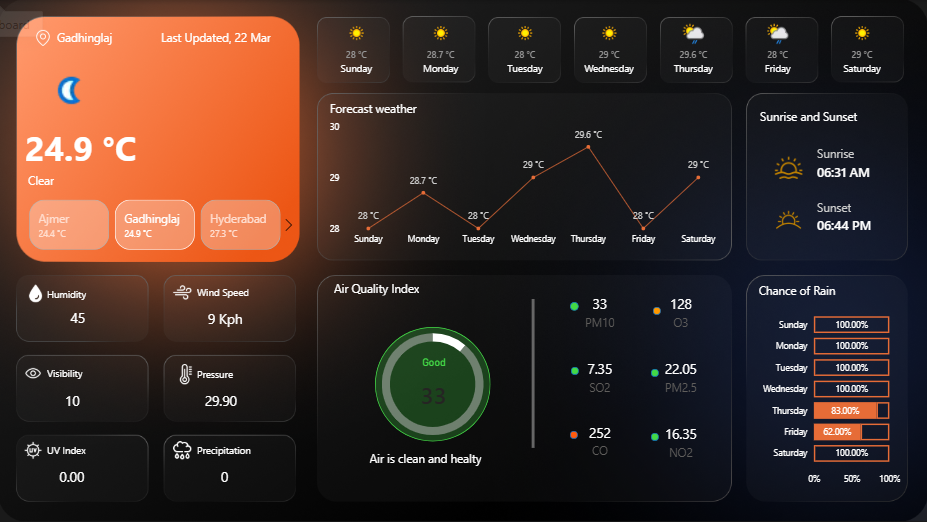

Layout of this report page (visuals, bound fields, positions):
{"tool":"powerbi","page":{"name":"Live Weather Report","canvas":[1280,720],"ordinal":0},"visuals":[{"type":"advancedSlicerVisual","fields":{"Values":["Locations.location.name"],"Label":["MesureTable.Curr_Temp_C"]},"box":[18.4,269.2,397.6,79.5],"z":0},{"type":"shape","box":[36.6,139.1,290,128.9],"z":1000},{"type":"shape","box":[41.6,230.4,345.6,36.8],"z":2000},{"type":"shape","box":[81.6,36.4,104.2,31.4],"z":3000},{"type":"shape","box":[225,36.4,166.9,31.4],"z":4000},{"type":"image","box":[51.4,36.7,22,30.9],"z":5000},{"type":"cardVisual","fields":{"Data":["Min(Current.current.condition.icon)"]},"box":[41.6,67.2,121.6,113.6],"z":6000},{"type":"shape","box":[67.4,391,96.7,26.4],"z":7000},{"type":"shape","box":[67.4,497.9,98.1,30.8],"z":8000},{"type":"shape","box":[273.9,386.6,98.1,30.8],"z":9000},{"type":"shape","box":[273.9,499.4,96.7,30.8],"z":10000},{"type":"shape","box":[67.4,604.9,98.1,30.8],"z":11000},{"type":"shape","box":[273.9,604.9,96.7,30.8],"z":12000},{"type":"image","box":[35.1,391,32.2,26.4],"z":13000},{"type":"image","box":[35.1,497.9,24.9,30.8],"z":14000},{"type":"image","box":[35.1,604.9,24.9,30.8],"z":15000},{"type":"image","box":[238.7,389.6,30.8,26.4],"z":16000},{"type":"image","box":[243.1,500.9,30.8,27.8],"z":17000},{"type":"image","box":[238.7,604.9,30.8,30.8],"z":18000},{"type":"cardVisual","fields":{"Data":["Sum(Current.current.humidity)"]},"box":[62.7,402.2,93.3,67.3],"z":19000},{"type":"cardVisual","fields":{"Data":["MesureTable.WindSpeed"]},"box":[216.8,402.7,193.3,67.4],"z":20000},{"type":"cardVisual","fields":{"Data":["Sum(Current.current.vis_km)"]},"box":[49.8,515.5,105.4,67.4],"z":21000},{"type":"cardVisual","fields":{"Data":["Sum(Current.current.pressure_in)"]},"box":[238.7,515.5,137.7,67.4],"z":22000},{"type":"cardVisual","fields":{"Data":["Sum(Current.current.uv)"]},"box":[33.7,621,137.7,67.4],"z":23000},{"type":"cardVisual","fields":{"Data":["Sum(Current.current.precip_mm)"]},"box":[253.9,620.9,117.8,67.3],"z":24000},{"type":"advancedSlicerVisual","fields":{"Values":["Forcast_Day.Day_Name"]},"box":[439.4,22,807,92.3],"z":25000},{"type":"lineChart","title":"Forecast weather","fields":{"Y":["Sum(Forcast_Day.forecast.forecastday.day.avgtemp_c)"],"Category":["Forcast_Day.Day_Name"]},"box":[451.1,139.1,547.7,208],"z":26000},{"type":"shape","box":[1048.6,139.1,156.7,42.5],"z":27000},{"type":"shape","box":[1127.7,218,105.4,36.6],"z":28000},{"type":"shape","box":[1127.7,290,105.4,36.6],"z":29000},{"type":"shape","box":[1127.7,193.3,105.4,36.6],"z":30000},{"type":"shape","box":[1127.7,266.5,105.4,36.6],"z":31000},{"type":"image","box":[1061.8,212.4,54.2,38.1],"z":32000},{"type":"image","box":[1061.6,279.8,54,46.4],"z":33000},{"type":"hundredPercentStackedBarChart","title":"Chance of Rain","fields":{"Category":["Forcast_Day.Day_Name"],"Y":["Sum(Forcast_Day.forecast.forecastday.day.daily_chance_of_rain)","MesureTable.Left_value_rain"]},"box":[1041.4,390,204.9,287.5],"z":34000},{"type":"cardVisual","fields":{"Data":["Sum(Current.current.air_quality.pm10)"]},"box":[786.8,391.5,82.6,78],"z":35000},{"type":"cardVisual","fields":{"Data":["Sum(Current.current.air_quality.o3)"]},"box":[899.2,391.5,82.6,78],"z":36000},{"type":"cardVisual","fields":{"Data":["Sum(Current.current.air_quality.pm2_5)"]},"box":[899.2,480.2,82.6,78],"z":37000},{"type":"cardVisual","fields":{"Data":["Sum(Current.current.air_quality.so2)"]},"box":[786.8,481,82.6,78],"z":38000},{"type":"cardVisual","fields":{"Data":["Sum(Current.current.air_quality.co)"]},"box":[779.9,570.4,96.3,73.4],"z":39000},{"type":"cardVisual","fields":{"Data":["Sum(Current.current.air_quality.no2)"]},"box":[899.2,570.4,82.6,78],"z":40000},{"type":"shape","box":[787.6,416,12,12],"z":41000},{"type":"shape","box":[787.6,593,10.7,10.7],"z":42000},{"type":"shape","box":[789.1,504.7,10.7,10.7],"z":43000},{"type":"shape","box":[901,422.1,10.7,10.7],"z":44000},{"type":"shape","box":[899.2,507.7,10.7,10.7],"z":45000},{"type":"shape","box":[899.2,596.4,10.7,10.7],"z":46000},{"type":"shape","box":[694.3,411.4,85.6,204.9],"z":47000},{"type":"shape","box":[461.8,376.2,157.5,41.3],"z":48000},{"type":"shape","box":[518.4,449.6,159,157.5],"z":49000},{"type":"donutChart","fields":{"Y":["Sum(Current.current.air_quality.pm10)","MesureTable.Left_value_PM10"]},"box":[472.5,435.8,252.3,185],"z":50000},{"type":"cardVisual","fields":{"Data":["Sum(Current.current.air_quality.pm10)"]},"box":[532.2,490.9,134.6,84.1],"z":51000},{"type":"shape","box":[451.1,610,273.7,42.8],"z":52000}]}

Visuals, with their boxes in screenshot pixels (x1, y1, x2, y2), scaled from the page's 1280x720 canvas onto the 927x522 screenshot:
advancedSlicerVisual - Locations.location.name x MesureTable.Curr_Temp_C: bbox=(13, 195, 301, 253)
shape: bbox=(27, 101, 237, 194)
shape: bbox=(30, 167, 280, 194)
shape: bbox=(59, 26, 135, 49)
shape: bbox=(163, 26, 284, 49)
image: bbox=(37, 27, 53, 49)
cardVisual - Min(Current.current.condition.icon): bbox=(30, 49, 118, 131)
shape: bbox=(49, 283, 119, 303)
shape: bbox=(49, 361, 120, 383)
shape: bbox=(198, 280, 269, 303)
shape: bbox=(198, 362, 268, 384)
shape: bbox=(49, 439, 120, 461)
shape: bbox=(198, 439, 268, 461)
image: bbox=(25, 283, 49, 303)
image: bbox=(25, 361, 43, 383)
image: bbox=(25, 439, 43, 461)
image: bbox=(173, 282, 195, 302)
image: bbox=(176, 363, 198, 383)
image: bbox=(173, 439, 195, 461)
cardVisual - Sum(Current.current.humidity): bbox=(45, 292, 113, 340)
cardVisual - MesureTable.WindSpeed: bbox=(157, 292, 297, 341)
cardVisual - Sum(Current.current.vis_km): bbox=(36, 374, 112, 423)
cardVisual - Sum(Current.current.pressure_in): bbox=(173, 374, 273, 423)
cardVisual - Sum(Current.current.uv): bbox=(24, 450, 124, 499)
cardVisual - Sum(Current.current.precip_mm): bbox=(184, 450, 269, 499)
advancedSlicerVisual - Forcast_Day.Day_Name: bbox=(318, 16, 903, 83)
"Forecast weather" lineChart: bbox=(327, 101, 723, 252)
shape: bbox=(759, 101, 873, 132)
shape: bbox=(817, 158, 893, 185)
shape: bbox=(817, 210, 893, 237)
shape: bbox=(817, 140, 893, 167)
shape: bbox=(817, 193, 893, 220)
image: bbox=(769, 154, 808, 182)
image: bbox=(769, 203, 808, 236)
"Chance of Rain" hundredPercentStackedBarChart: bbox=(754, 283, 903, 491)
cardVisual - Sum(Current.current.air_quality.pm10): bbox=(570, 284, 630, 340)
cardVisual - Sum(Current.current.air_quality.o3): bbox=(651, 284, 711, 340)
cardVisual - Sum(Current.current.air_quality.pm2_5): bbox=(651, 348, 711, 405)
cardVisual - Sum(Current.current.air_quality.so2): bbox=(570, 349, 630, 405)
cardVisual - Sum(Current.current.air_quality.co): bbox=(565, 414, 635, 467)
cardVisual - Sum(Current.current.air_quality.no2): bbox=(651, 414, 711, 470)
shape: bbox=(570, 302, 579, 310)
shape: bbox=(570, 430, 578, 438)
shape: bbox=(571, 366, 579, 374)
shape: bbox=(653, 306, 660, 314)
shape: bbox=(651, 368, 659, 376)
shape: bbox=(651, 432, 659, 440)
shape: bbox=(503, 298, 565, 447)
shape: bbox=(334, 273, 449, 303)
shape: bbox=(375, 326, 491, 440)
donutChart - Sum(Current.current.air_quality.pm10) x MesureTable.Left_value_PM10: bbox=(342, 316, 525, 450)
cardVisual - Sum(Current.current.air_quality.pm10): bbox=(385, 356, 483, 417)
shape: bbox=(327, 442, 525, 473)
